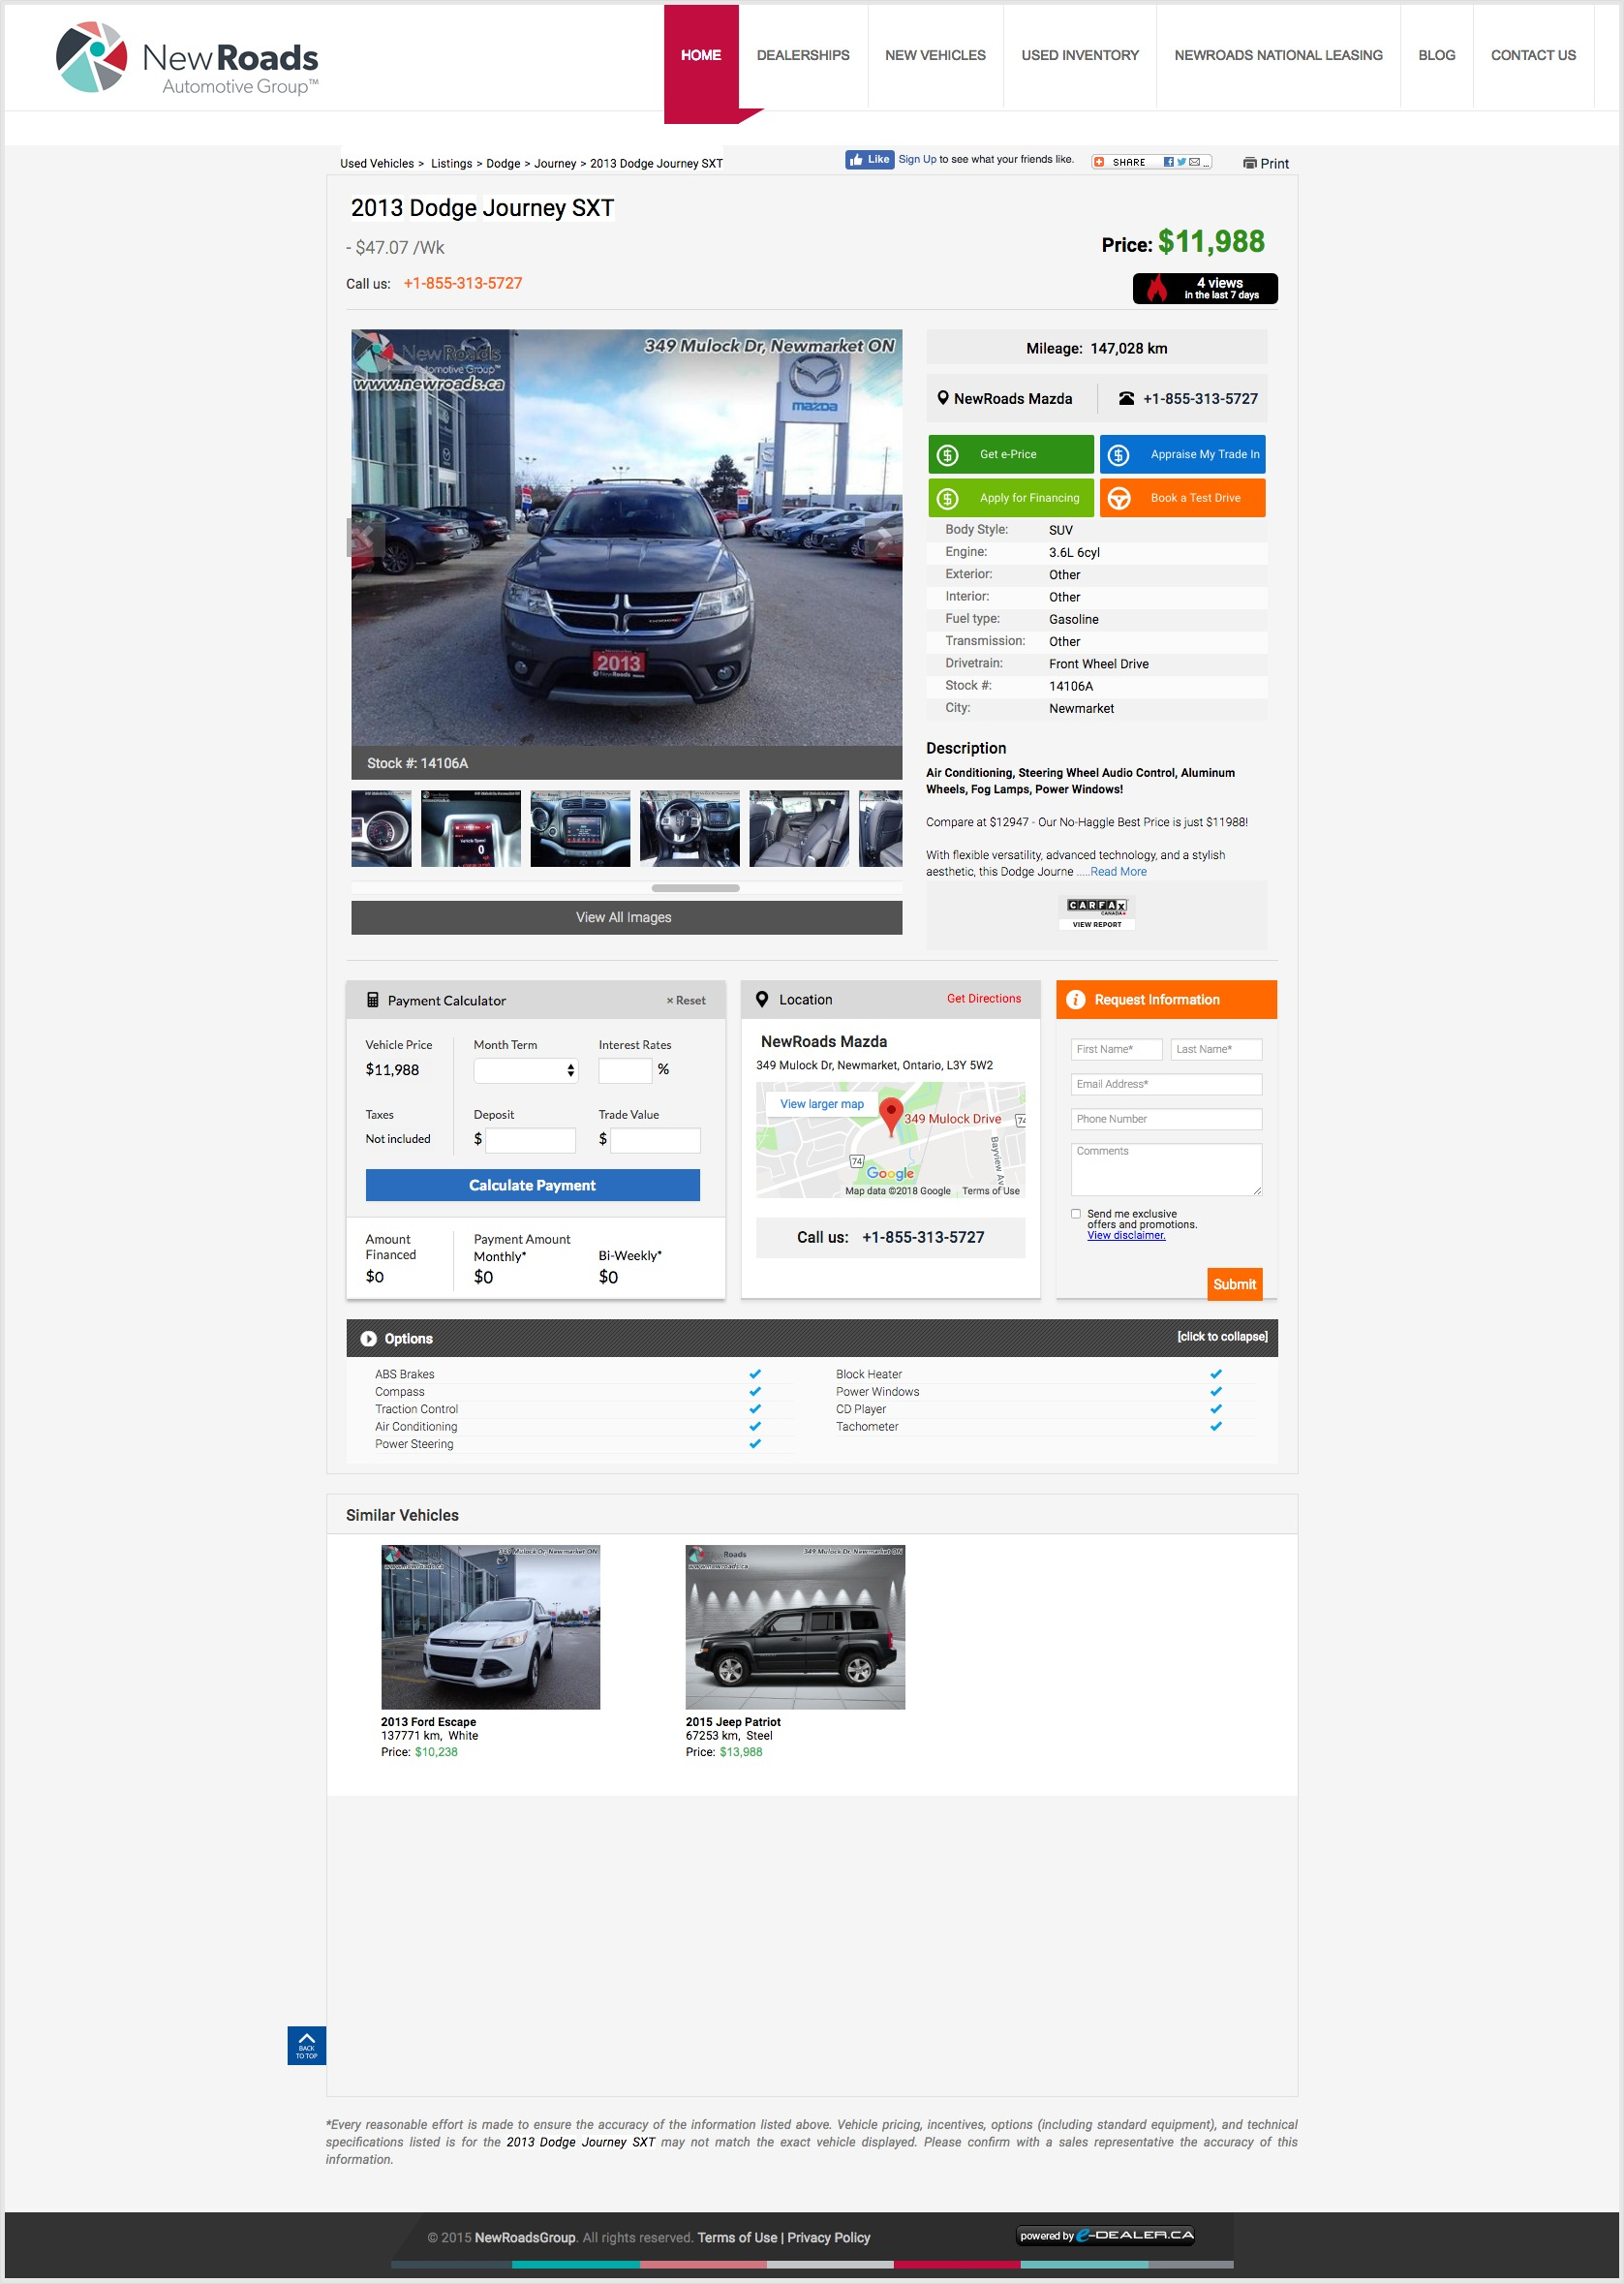car: (877, 526, 895, 550)
